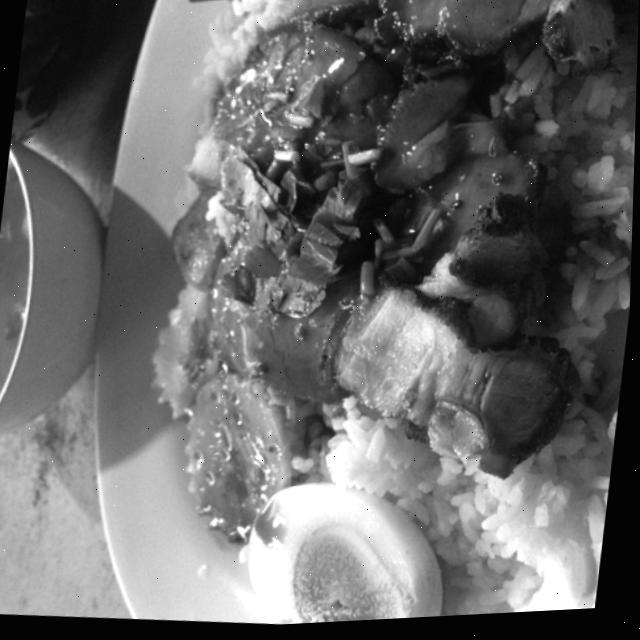猪肉菜式: (57, 0, 640, 636)
